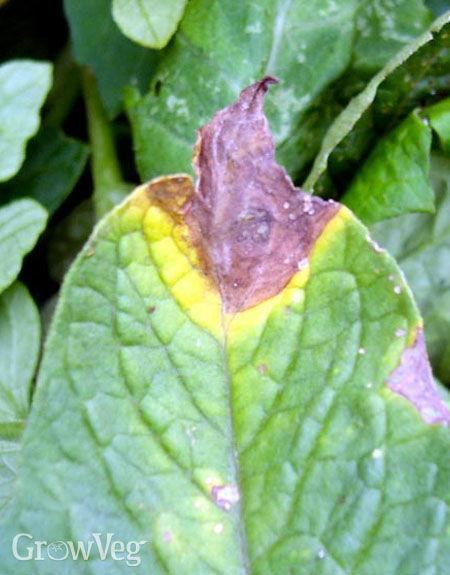Tomato Early blight leaf: (72, 59, 407, 545)
